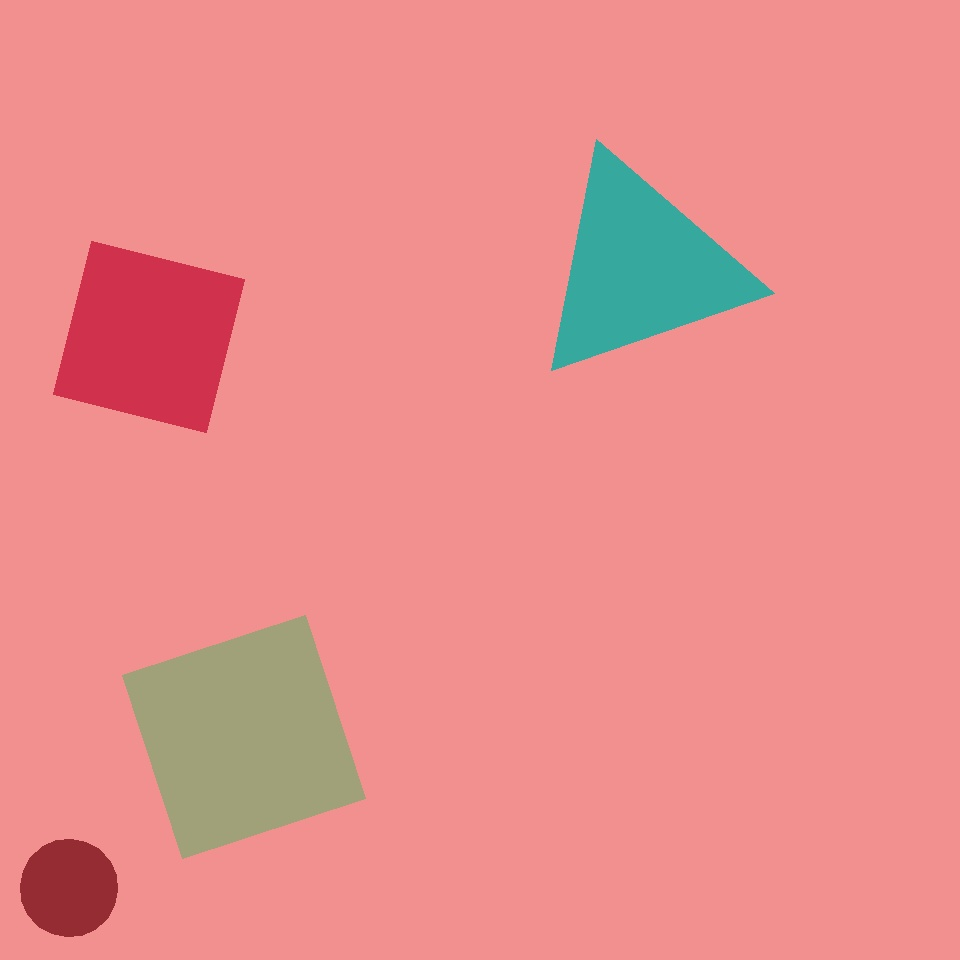circle: (530, 153, 753, 384), (42, 710, 196, 879), (779, 476, 930, 626), (743, 662, 870, 793)
square: (122, 616, 366, 858), (54, 241, 244, 432)
triangle: (462, 372, 629, 539), (30, 112, 193, 276), (20, 840, 118, 936)
